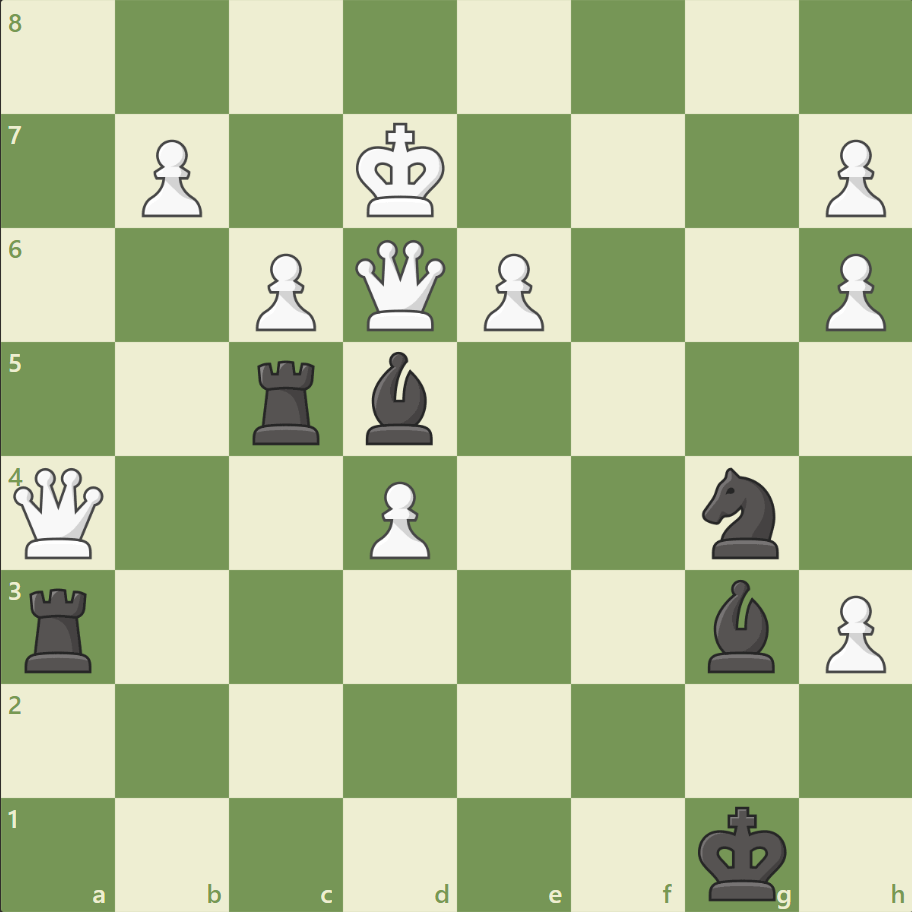K: (351, 117, 451, 225)
P: (133, 132, 208, 223), (247, 246, 322, 337), (474, 246, 549, 337), (815, 132, 889, 223), (815, 246, 889, 337), (361, 473, 435, 564), (815, 586, 889, 677)
Q: (351, 236, 450, 335), (10, 463, 109, 562)
b: (358, 347, 442, 449), (698, 574, 782, 676)
k: (692, 798, 792, 906)
n: (692, 461, 789, 564)
r: (246, 352, 329, 449), (19, 579, 102, 676)
